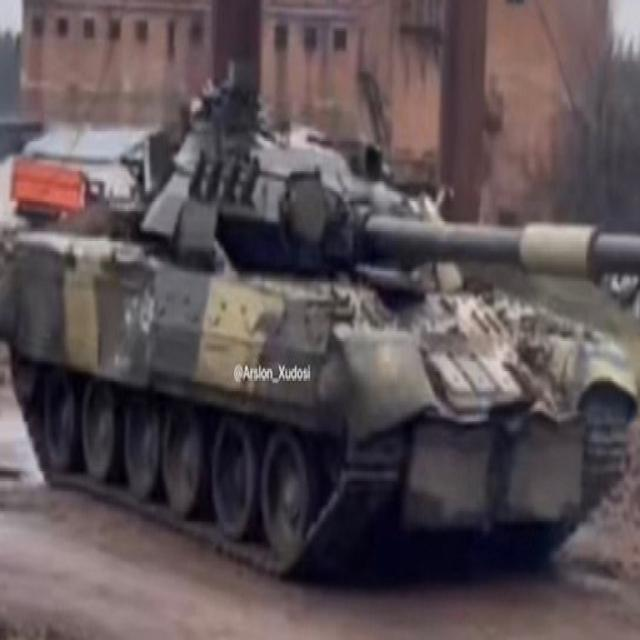TANK: (0, 71, 634, 582)
